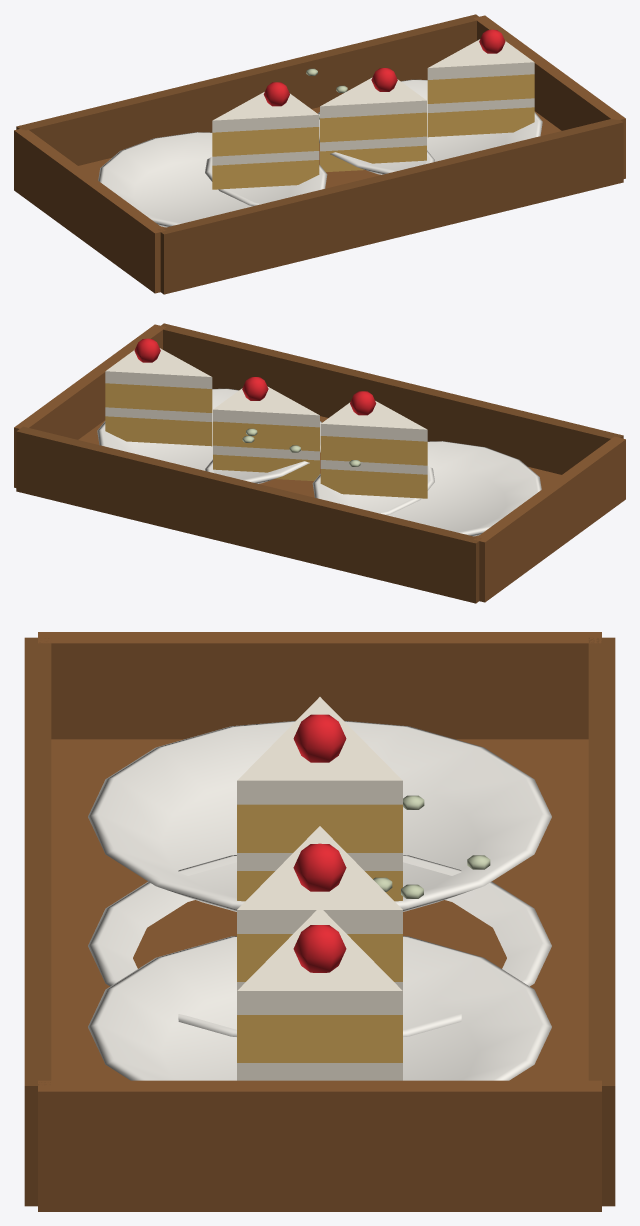
File: Dessert_Cake.fbx
3 views of the same model, one above another, from view 1: azimuth 30°, elevation 25°; view 2: azimuth 150°, elevation 25°; view 3: azimuth 270°, elevation 25° (orthographic). The views are drawn at different scales.
Visible parts, largest first — view 1: Dessert_Cake__Stack, Dessert_Cake; view 2: Dessert_Cake__Stack, Dessert_Cake; view 3: Dessert_Cake__Stack, Dessert_Cake, Dessert_Cake__Rotten.
Part boxes in pixels (x1,y1,x2,y2): Dessert_Cake__Stack: [14, 14, 625, 294]; Dessert_Cake: [205, 68, 434, 206]; Dessert_Cake__Stack: [14, 323, 625, 603]; Dessert_Cake: [205, 377, 434, 515]; Dessert_Cake__Stack: [24, 632, 615, 1211]; Dessert_Cake: [88, 826, 551, 1036]; Dessert_Cake__Rotten: [373, 795, 490, 898].
Size of the model in its own units: 0.328 by 0.075 by 0.178.
